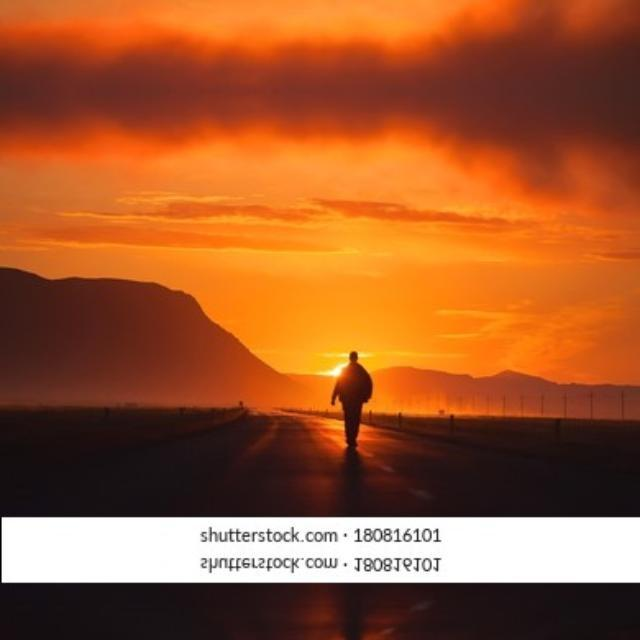person: (330, 346, 374, 452)
